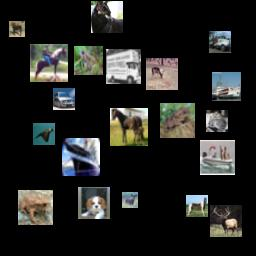automobile: (53, 88, 75, 110)
bird: (33, 123, 55, 145)
cat: (91, 1, 123, 33), (206, 110, 228, 132)
deer: (210, 205, 242, 237), (146, 58, 178, 90), (122, 192, 138, 208)
dog: (78, 187, 110, 219)
frog: (160, 103, 195, 138), (18, 190, 53, 225), (74, 46, 103, 75)
ship: (62, 138, 100, 176), (200, 140, 235, 175), (212, 72, 241, 101)
truck: (106, 49, 141, 84), (209, 31, 231, 53)
